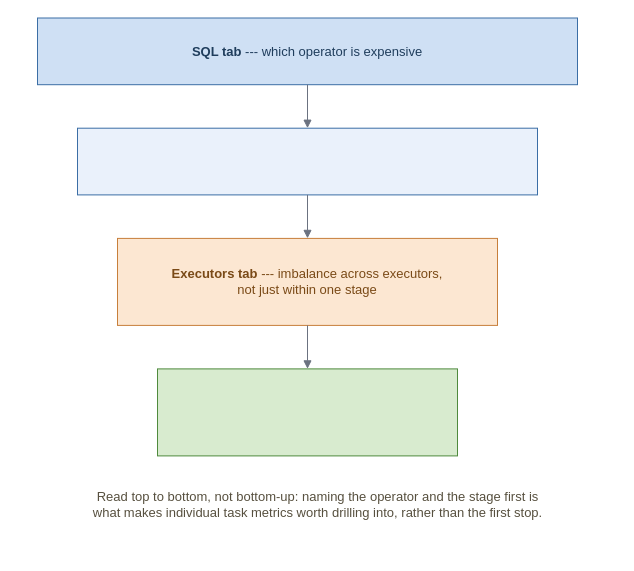
The diagram is 634 pixels wide and 571 high, and some of its shapes have lost their labels. Here are the shapes that lost their labels. From the top down, the centre of each, then its label:
At [307,161]: "Stages tab --- which stage, and is it skewed".
At [307,412]: "Task metrics --- shuffle size, spill, GC time for the specific task".
